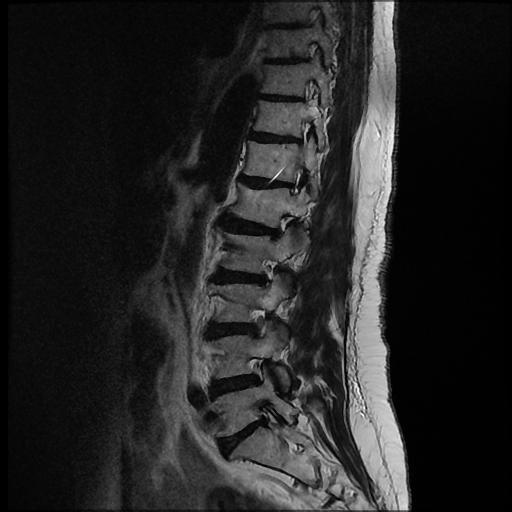LFS1: (239, 346, 278, 392), (236, 300, 274, 342), (249, 253, 283, 294)
LFS2: (261, 206, 300, 248)
